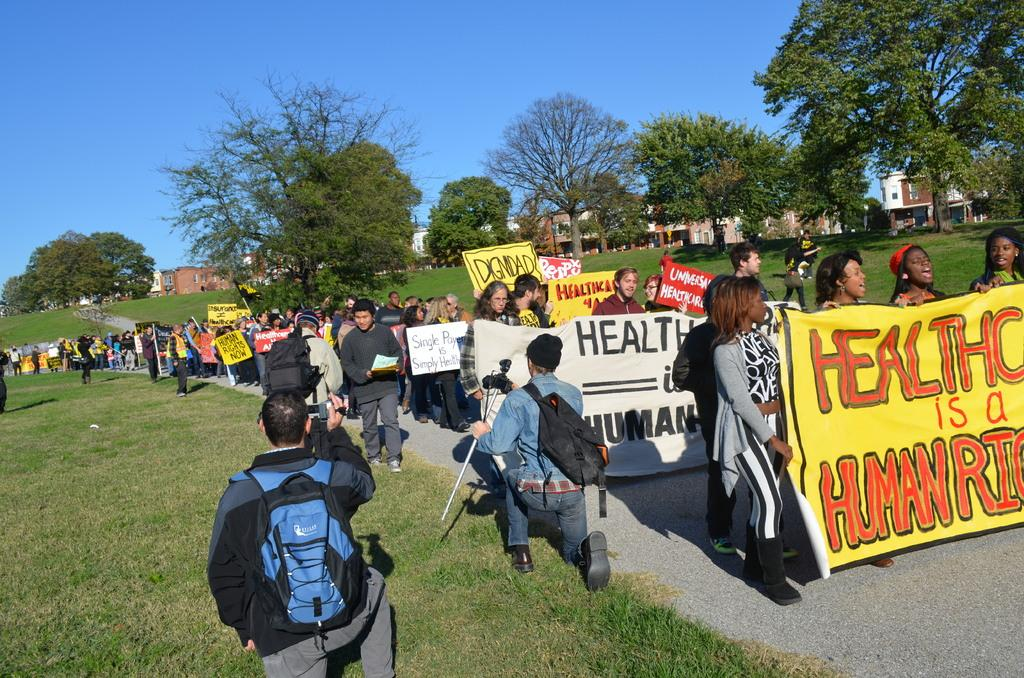Luggage-and-bags: (225, 459, 362, 634), (524, 383, 608, 519), (263, 324, 322, 404)
